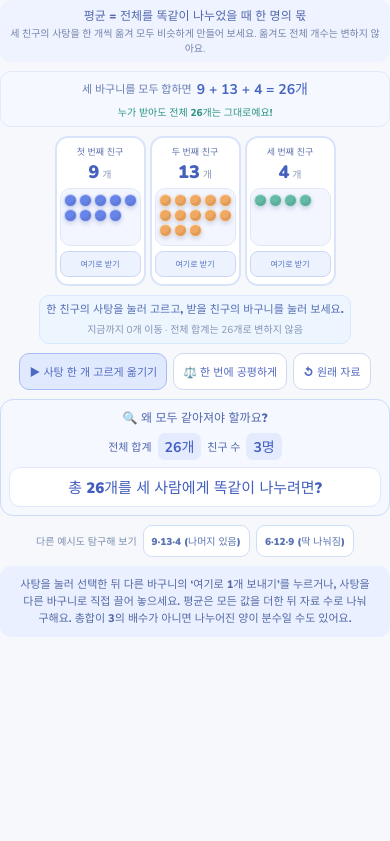
Test case: 평균은 고르게 나누기 › 한 번에 공평하게 버튼도 26개를 나눈 세 친구에게 동일한 평균을 제시한다
Click the button "⚖️ 한 번에 공평하게" at (230, 372), box [173, 353, 287, 390]
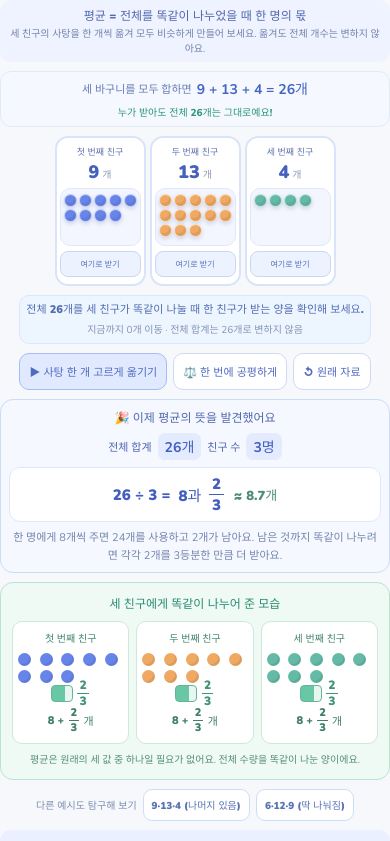
Expected: the element with test id "average-equal-shares" is shown, [0, 582, 389, 780]
Expected: the number of elements with class "average-share" is 3, [12, 621, 129, 744]; [136, 621, 254, 744]; [261, 621, 378, 744]
Expected: the text "한 명에게 8개씩 주면 24개" is shown, [13, 530, 377, 563]
Click the button "↺ 원래 자료" at (332, 372), box [293, 353, 370, 390]
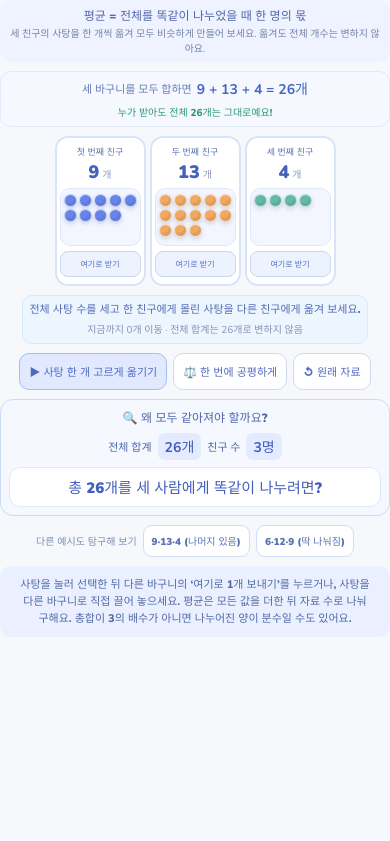
Expected: the text "9 + 13 + 4 = 26개" is shown, [197, 78, 308, 99]
Expected: the element with test id "average-equal-shares" is gone
